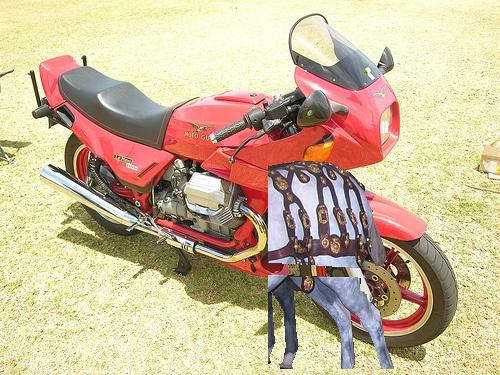tampered: (269, 161, 394, 369)
